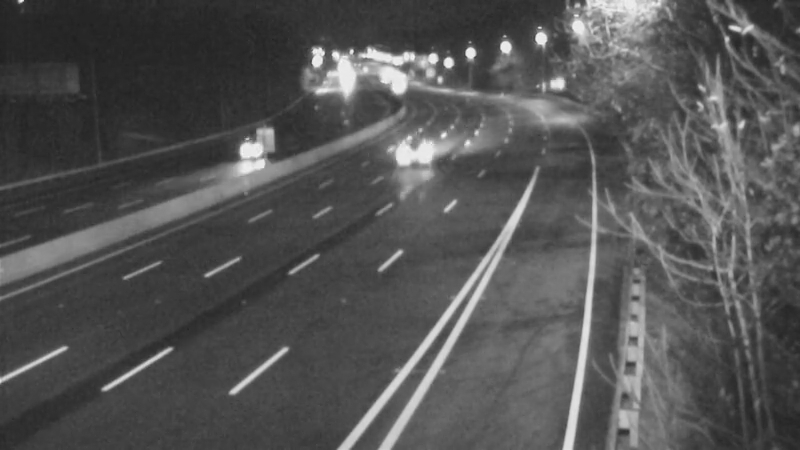vehicle: (382, 112, 462, 192), (210, 112, 290, 192), (371, 56, 421, 106)
